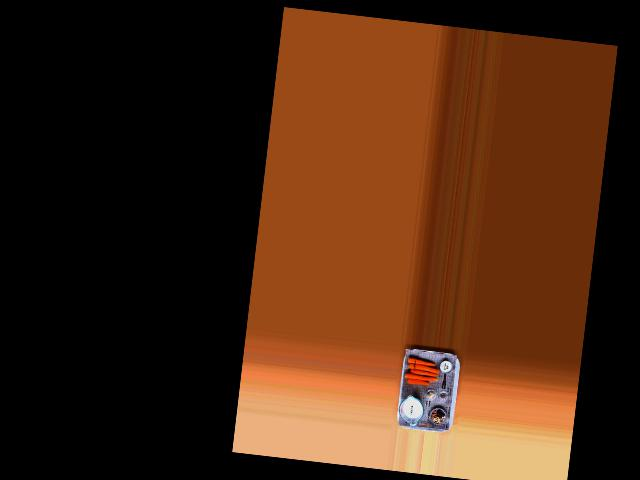carrot: (407, 357, 437, 368)
